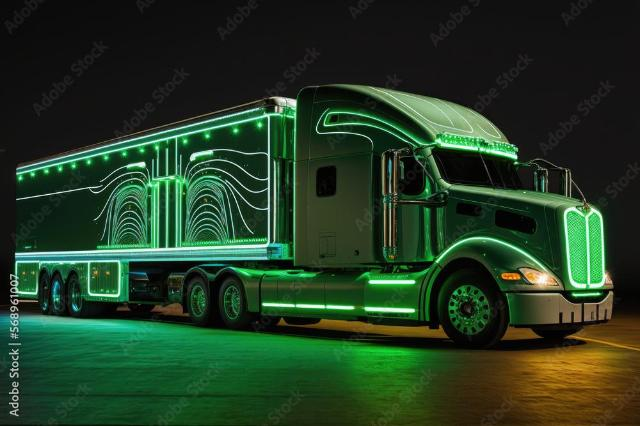truck: (19, 85, 626, 340)
